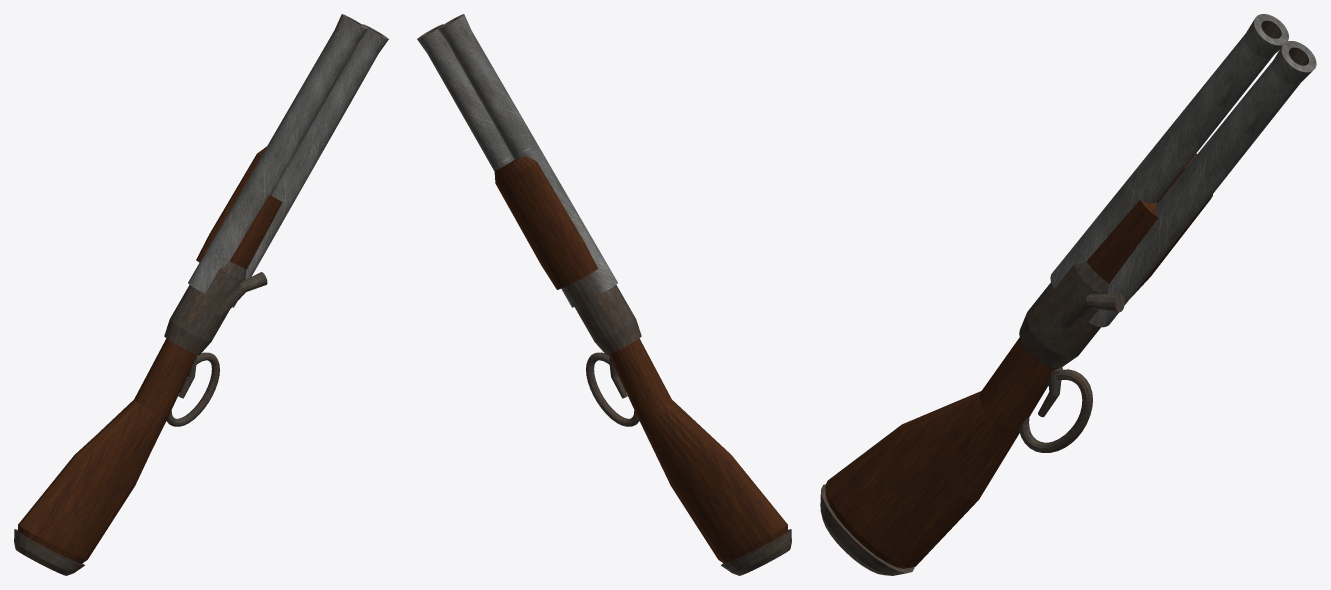
Rendered from shotgun.obj.
3 renders of one model, left to right at view 1: azimuth 30°, elevation 25°; view 2: azimuth 150°, elevation 25°; view 3: azimuth 330°, elevation 25°, orthographic. The views are drawn at different scales.
Visible parts, largest first — view 1: stock, barrel0, barrel1, receiver, butt_plate, trigger_guard, fore_stock, hammer; view 2: stock, fore_stock, barrel0, barrel1, receiver, butt_plate, trigger_guard; view 3: stock, barrel1, barrel0, receiver, butt_plate, trigger_guard, hammer.
Boxes of the visible parts, x1,y1,x2,y2 form: stock: (18, 195, 282, 563); barrel0: (188, 14, 367, 293); barrel1: (232, 24, 388, 307); receiver: (164, 261, 246, 355); butt_plate: (14, 529, 84, 575); trigger_guard: (166, 352, 219, 426); fore_stock: (196, 146, 266, 262); hammer: (216, 272, 267, 317); stock: (609, 338, 787, 563); fore_stock: (494, 156, 597, 289); barrel0: (438, 14, 617, 293); barrel1: (417, 24, 574, 307); receiver: (564, 274, 641, 355); butt_plate: (721, 529, 791, 575); trigger_guard: (586, 352, 639, 426); stock: (825, 200, 1158, 568); barrel1: (1089, 41, 1316, 327); barrel0: (1050, 14, 1288, 288); receiver: (1019, 262, 1109, 368); butt_plate: (820, 484, 914, 575); trigger_guard: (1019, 369, 1092, 452); hammer: (1060, 294, 1124, 328).
Bounding box in the file's own units: 95.04 × 120 × 12.49.
Materials: 3 (3 with a texture image).
